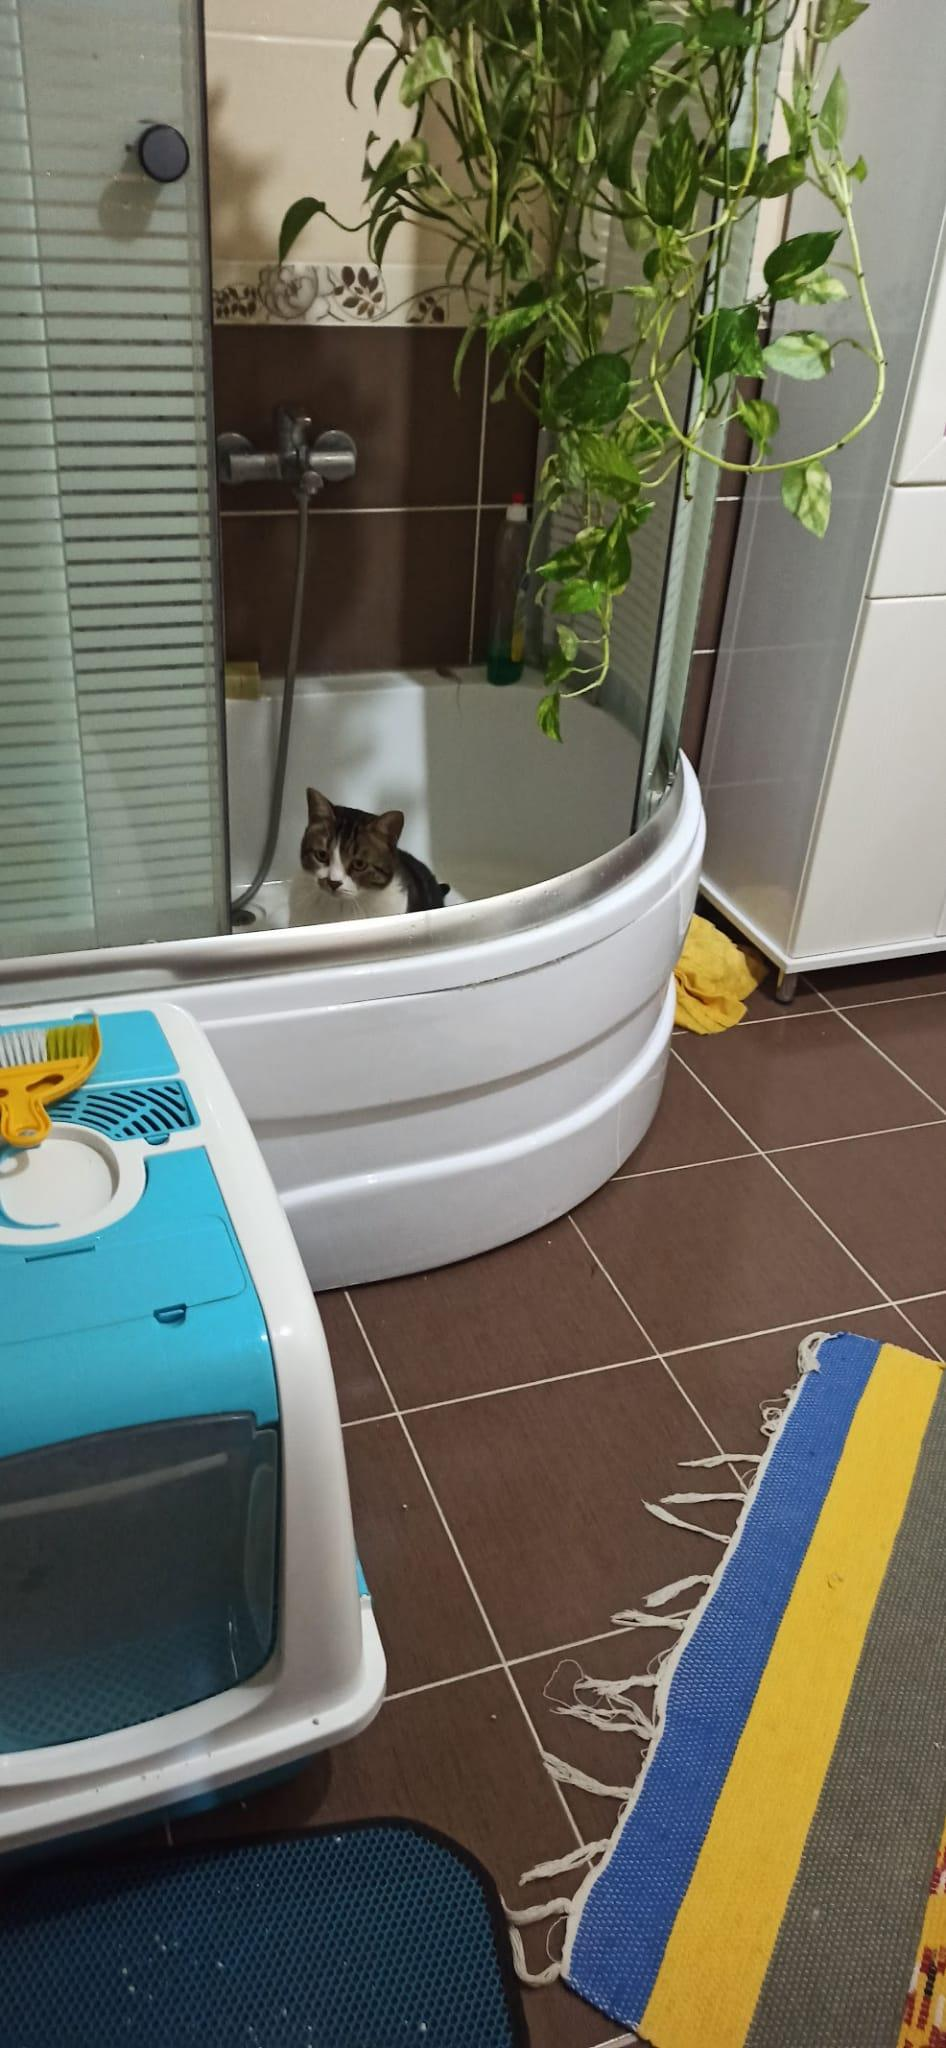kedo: (289, 788, 451, 912)
